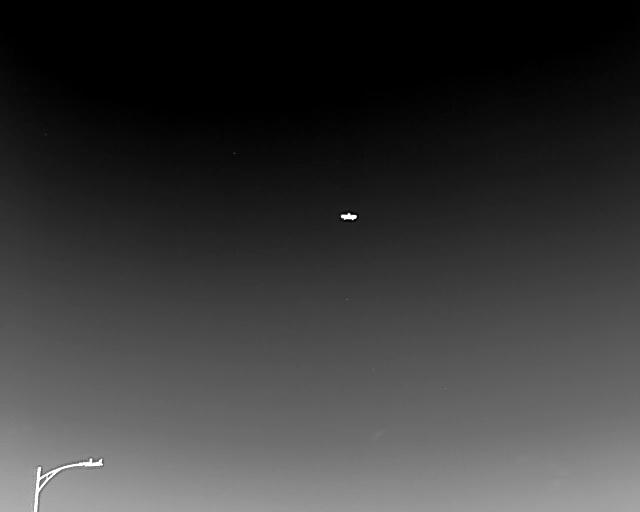fpv-drone: (339, 211, 358, 221)
